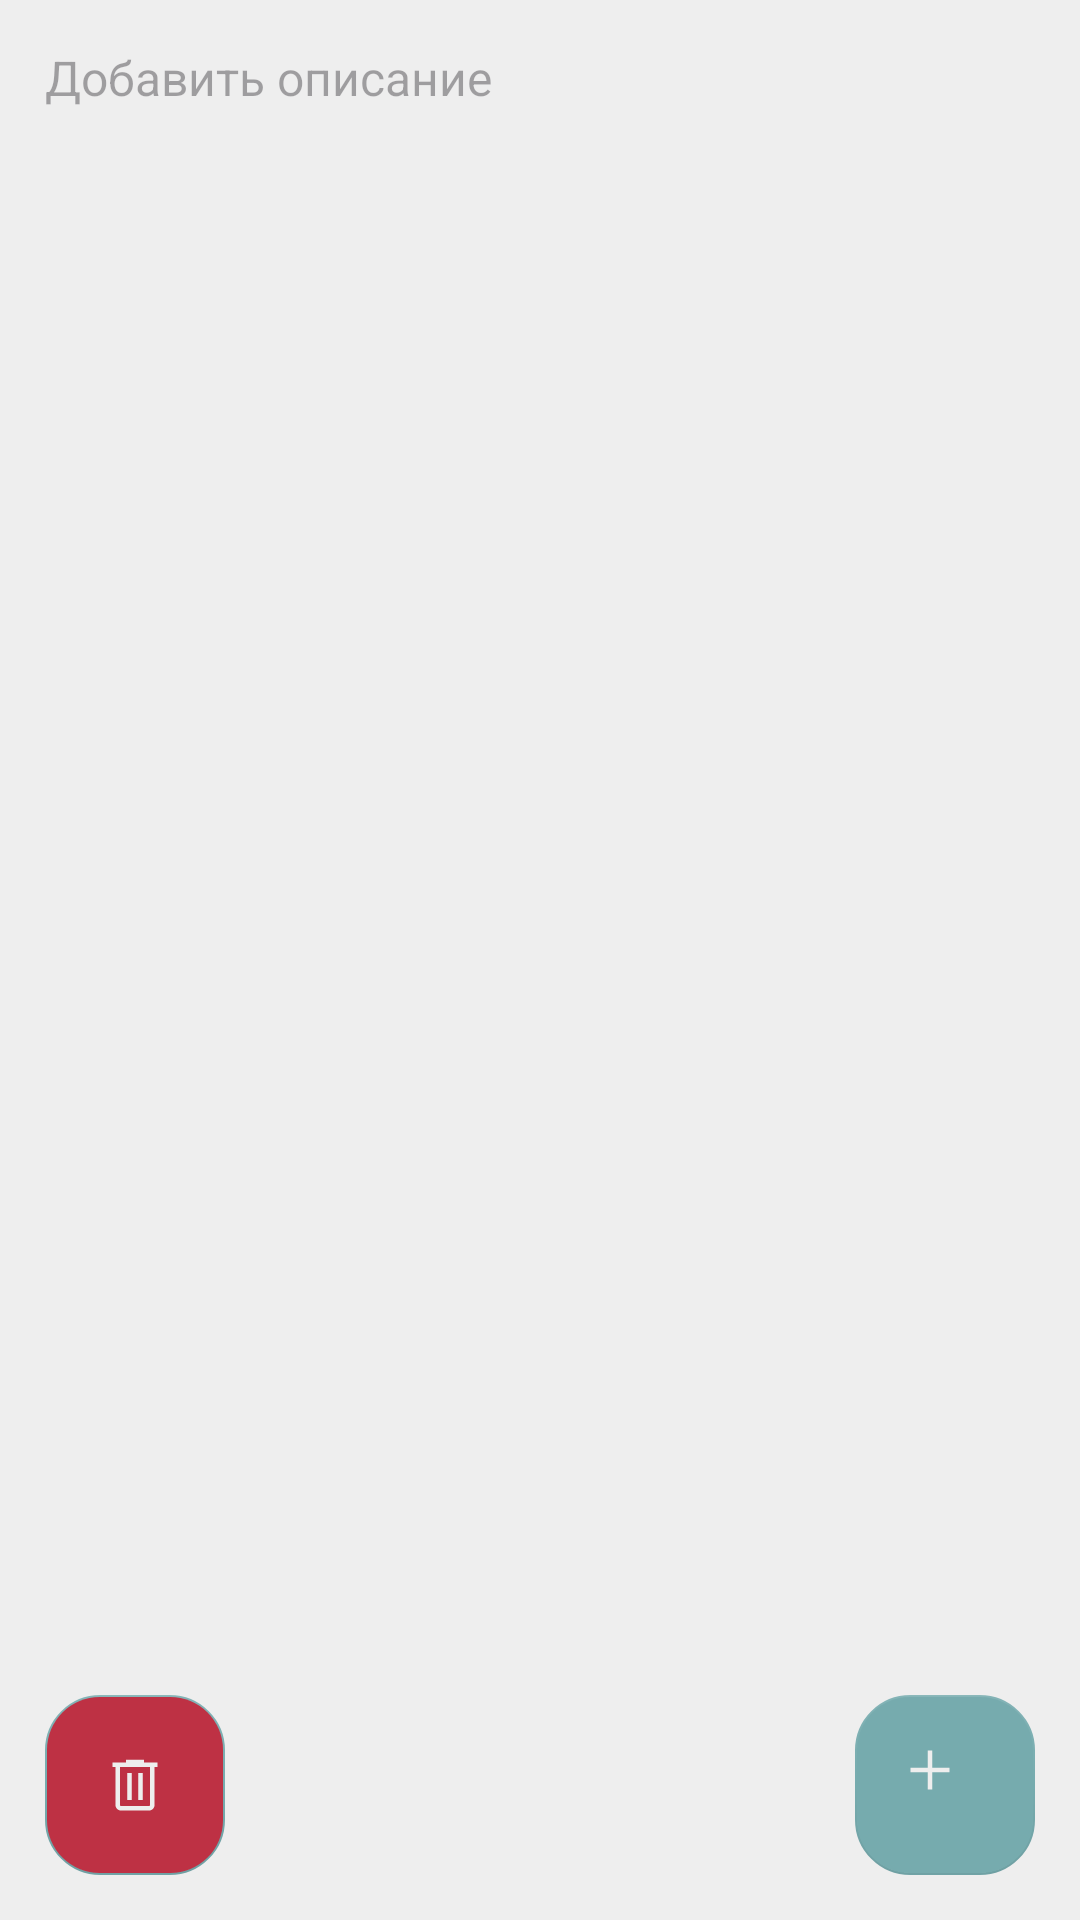

Icon bounding boxes for this 1080 × 1920 phone screenshot, format (x1, y1, x2, y2):
delete: (45, 1695, 225, 1875)
plus: (855, 1695, 1035, 1875)
